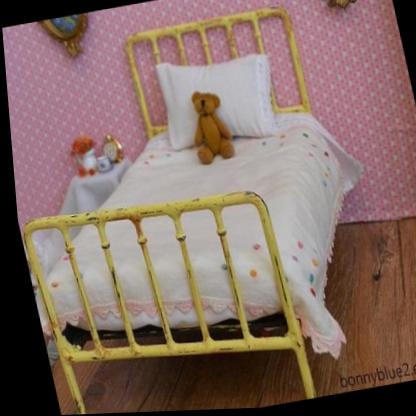Bed: (21, 10, 341, 399)
Wooden floor: (348, 222, 416, 367)
